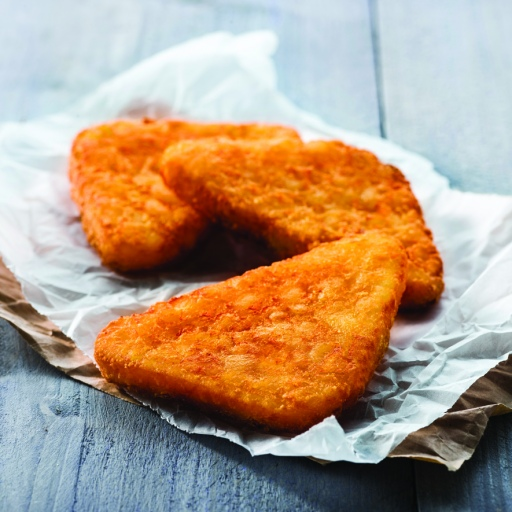triangle_hash_brown: (83, 117, 443, 421)
